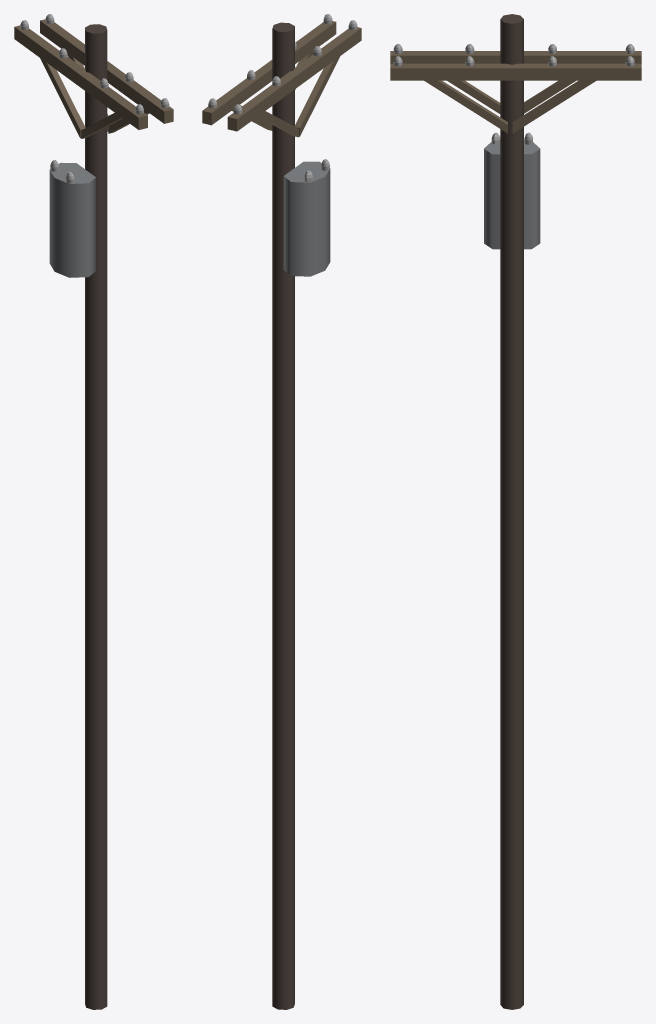
File: 5e36940f-cbed-45b5-9bc8-c6cdbf6fdc3c.glb
3 views of the same model, side by side, from view 1: azimuth 30°, elevation 25°; view 2: azimuth 150°, elevation 25°; view 3: azimuth 270°, elevation 25° (orthographic).
Visible parts, largest first — view 1: SM_TelPole:SM_TelPole1; view 2: SM_TelPole:SM_TelPole1; view 3: SM_TelPole:SM_TelPole1.
Part boxes in pixels (<box>): SM_TelPole:SM_TelPole1: <box>14,14,173,1009</box>; SM_TelPole:SM_TelPole1: <box>202,14,361,1009</box>; SM_TelPole:SM_TelPole1: <box>390,14,641,1009</box>.
Size of the model in its own units: 0.566 by 9 by 2.08.
